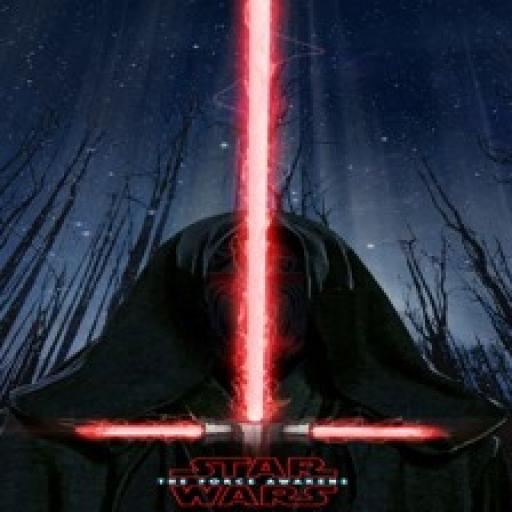sith saber: (67, 4, 451, 503)
